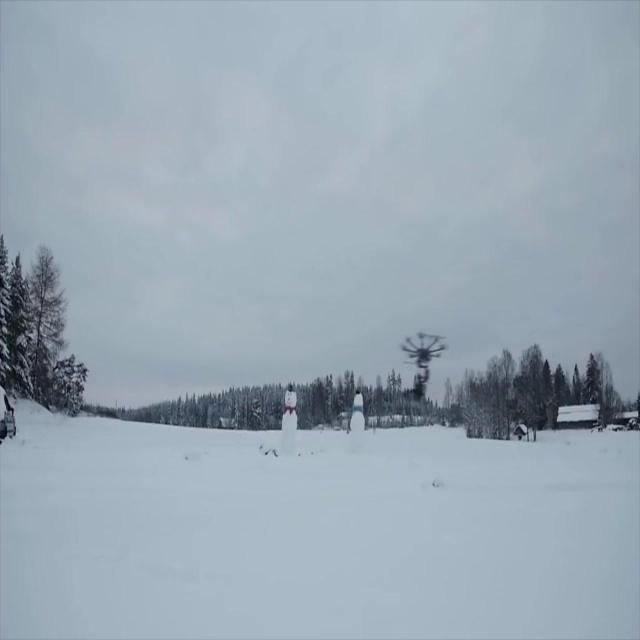drone: (396, 326, 449, 401)
